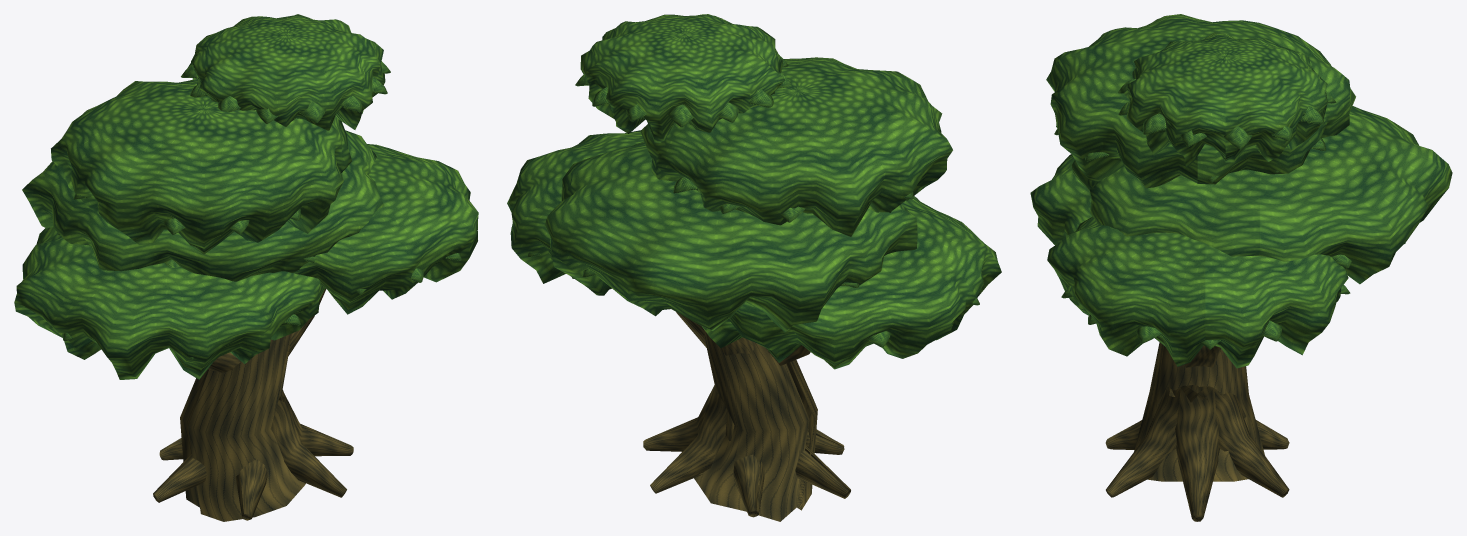
The model's file is young-canopy.glb.
3 views of the same model, side by side, from view 1: azimuth 30°, elevation 25°; view 2: azimuth 150°, elevation 25°; view 3: azimuth 270°, elevation 25° (orthographic). The views are drawn at different scales.
Visible parts, largest first — view 1: young-canopy_leaf, young-canopy_bark; view 2: young-canopy_leaf, young-canopy_bark; view 3: young-canopy_leaf, young-canopy_bark.
Boxes of the visible parts, x1=… form: young-canopy_leaf: x1=14, y1=14, x2=478, y2=379; young-canopy_bark: x1=153, y1=288, x2=353, y2=521; young-canopy_leaf: x1=507, y1=14, x2=1001, y2=369; young-canopy_bark: x1=643, y1=312, x2=850, y2=521; young-canopy_leaf: x1=1030, y1=14, x2=1452, y2=368; young-canopy_bark: x1=1105, y1=342, x2=1289, y2=521.
Size of the model in its own units: 2.26 by 2.23 by 1.84.
2 materials, 2 textured.
